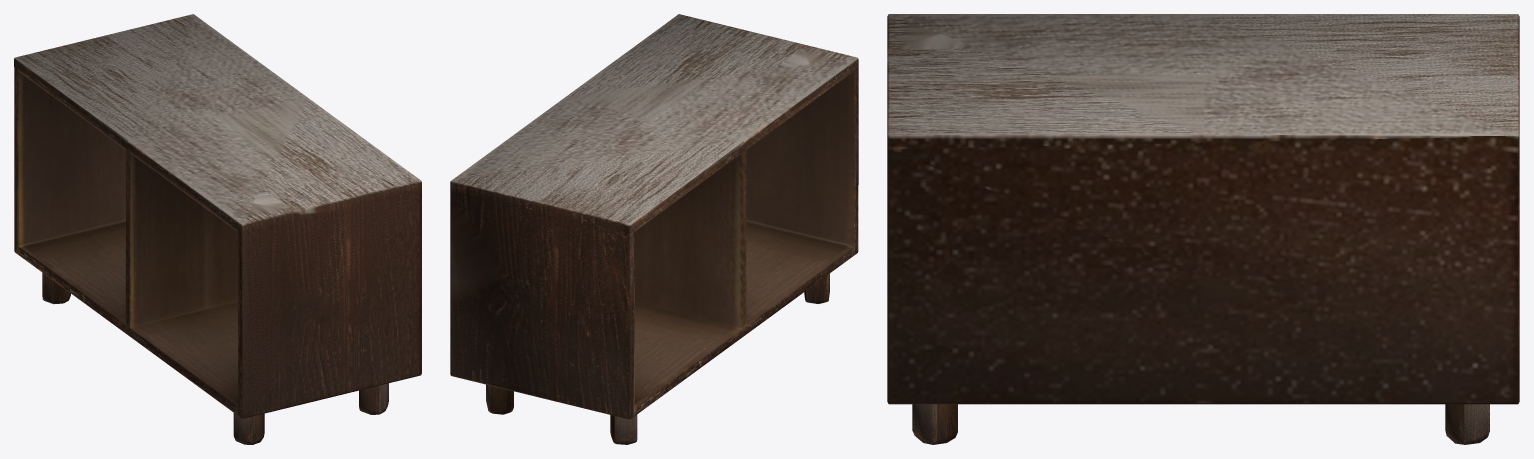
File: stage4_lower_cabinet_base.fbx
3 views of the same model, side by side, from view 1: azimuth 30°, elevation 25°; view 2: azimuth 150°, elevation 25°; view 3: azimuth 270°, elevation 25° (orthographic). The views are drawn at different scales.
Parts seen in each view (by area): view 1: stage4_lower_cabinet_base; view 2: stage4_lower_cabinet_base; view 3: stage4_lower_cabinet_base.
Part boxes in pixels (<box>): stage4_lower_cabinet_base: <box>14,14,421,444</box>; stage4_lower_cabinet_base: <box>450,14,858,444</box>; stage4_lower_cabinet_base: <box>887,14,1519,444</box>.
Size of the model in its own units: 48.03 by 60.09 by 105.
